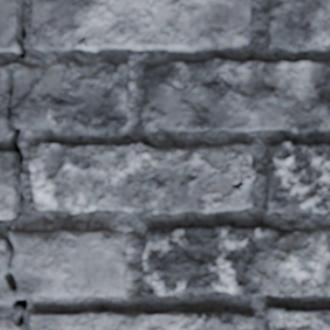brick: (30, 144, 254, 214), (142, 58, 329, 132), (143, 226, 329, 296), (32, 0, 252, 51), (267, 142, 329, 213), (31, 311, 254, 329), (268, 0, 329, 52), (267, 307, 329, 329), (0, 151, 18, 219), (0, 0, 22, 52), (0, 320, 19, 329)
broken_brick: (12, 61, 129, 137), (12, 228, 128, 299), (0, 62, 12, 137), (0, 239, 13, 305)
crack: (0, 2, 31, 327), (191, 312, 245, 327), (71, 36, 87, 49), (34, 43, 40, 48)
